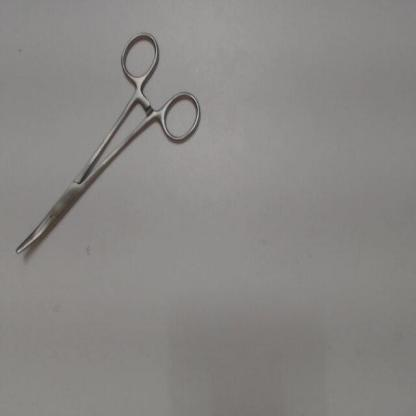Crile Artery Forceps: (9, 27, 205, 267)
